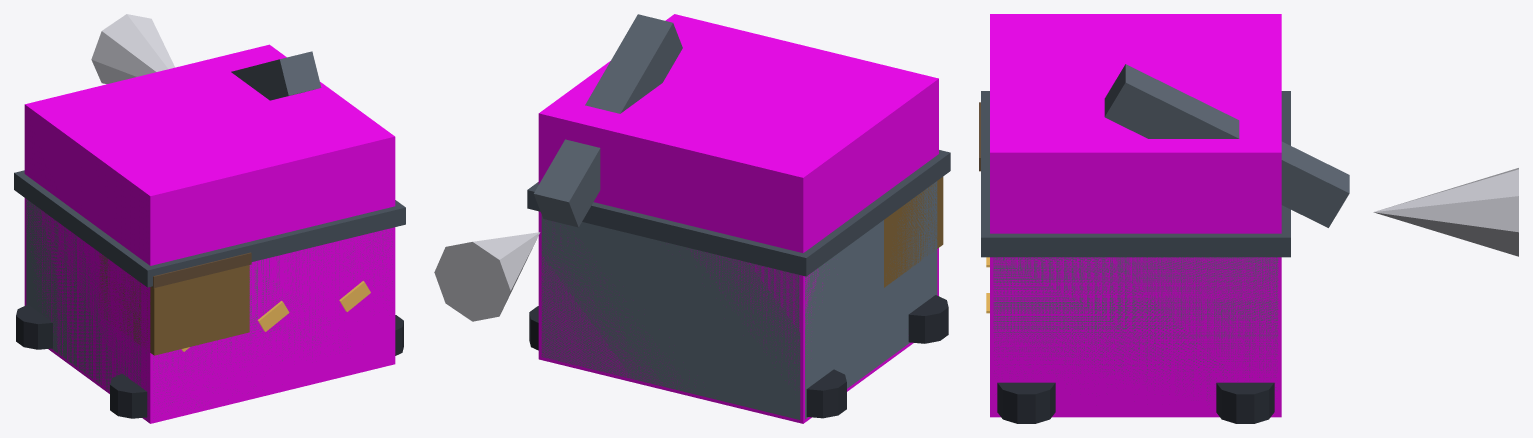
Rendered from miner.glb.
3 views of the same model, side by side, from view 1: azimuth 30°, elevation 25°; view 2: azimuth 150°, elevation 25°; view 3: azimuth 270°, elevation 25° (orthographic). The views are drawn at different scales.
Parts seen in each view (by area): view 1: Col_main, M_b0, M_b5, M_b1, Drill, M_b9, M_b3, M_b6, M_b8; view 2: Col_main, M_b0, M_b3, M_b1, Drill, M_b5, M_b9; view 3: Col_main, M_b0, M_b3, M_b1, Drill, M_b9.
Boxes of the visible parts, left/top/right/bottom form: Col_main: left=24, top=44, right=395, bottom=423; M_b0: left=26, top=199, right=392, bottom=418; M_b5: left=99, top=253, right=249, bottom=355; M_b1: left=14, top=170, right=405, bottom=287; Drill: left=91, top=14, right=174, bottom=84; M_b9: left=16, top=304, right=403, bottom=418; M_b3: left=231, top=51, right=321, bottom=100; M_b6: left=152, top=252, right=251, bottom=287; M_b8: left=181, top=281, right=370, bottom=351; Col_main: left=538, top=14, right=938, bottom=423; M_b0: left=541, top=181, right=937, bottom=419; M_b3: left=533, top=14, right=682, bottom=227; M_b1: left=527, top=150, right=950, bottom=276; Drill: left=434, top=232, right=540, bottom=321; M_b5: left=884, top=177, right=943, bottom=287; M_b9: left=529, top=295, right=948, bottom=418; Col_main: left=990, top=14, right=1281, bottom=417; M_b0: left=993, top=257, right=1278, bottom=400; M_b3: left=1104, top=64, right=1349, bottom=227; M_b1: left=981, top=91, right=1290, bottom=257; Drill: left=1373, top=168, right=1518, bottom=256; M_b9: left=997, top=382, right=1274, bottom=423.
Bounding box in the file's own units: 2.1 × 1.94 × 2.96.
